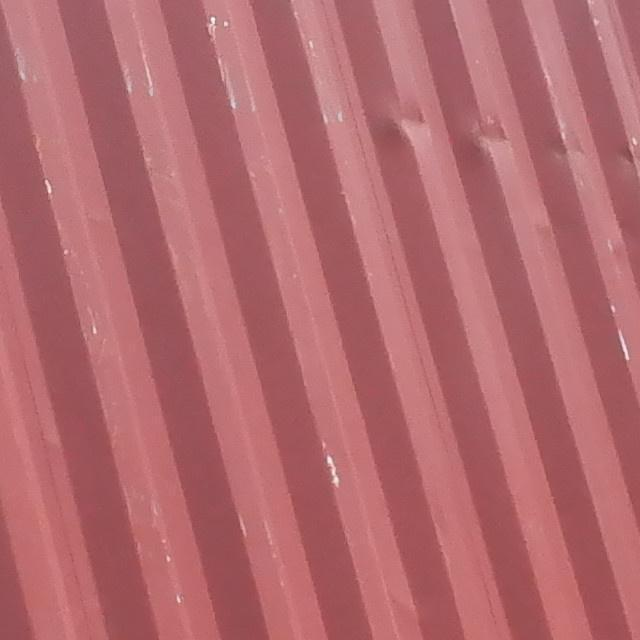dent: (366, 96, 640, 180)
